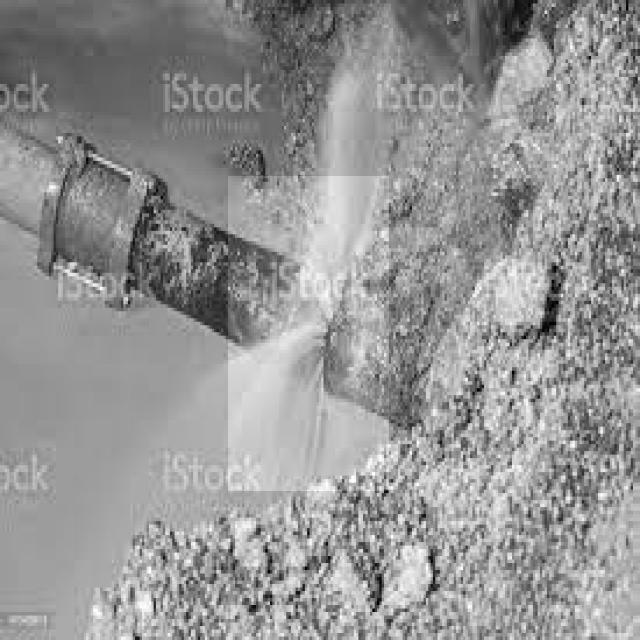corrosion: (227, 187, 400, 488)
